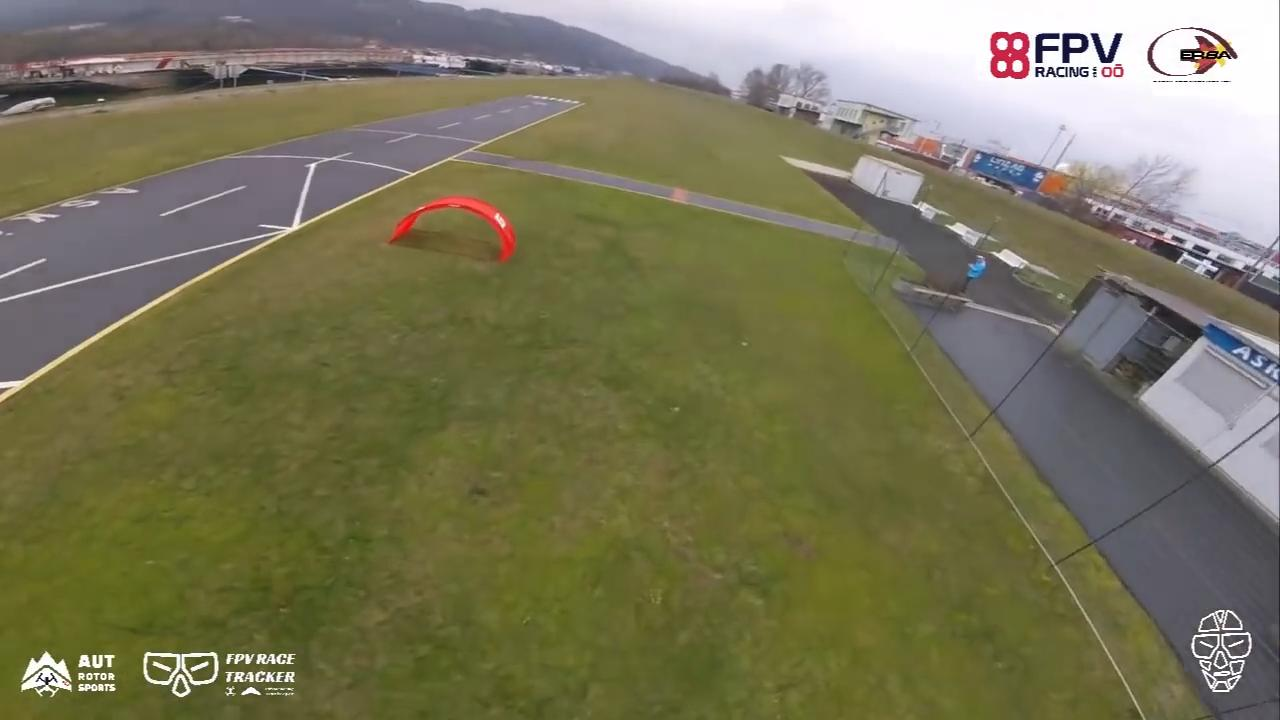gate: (389, 195, 516, 267)
